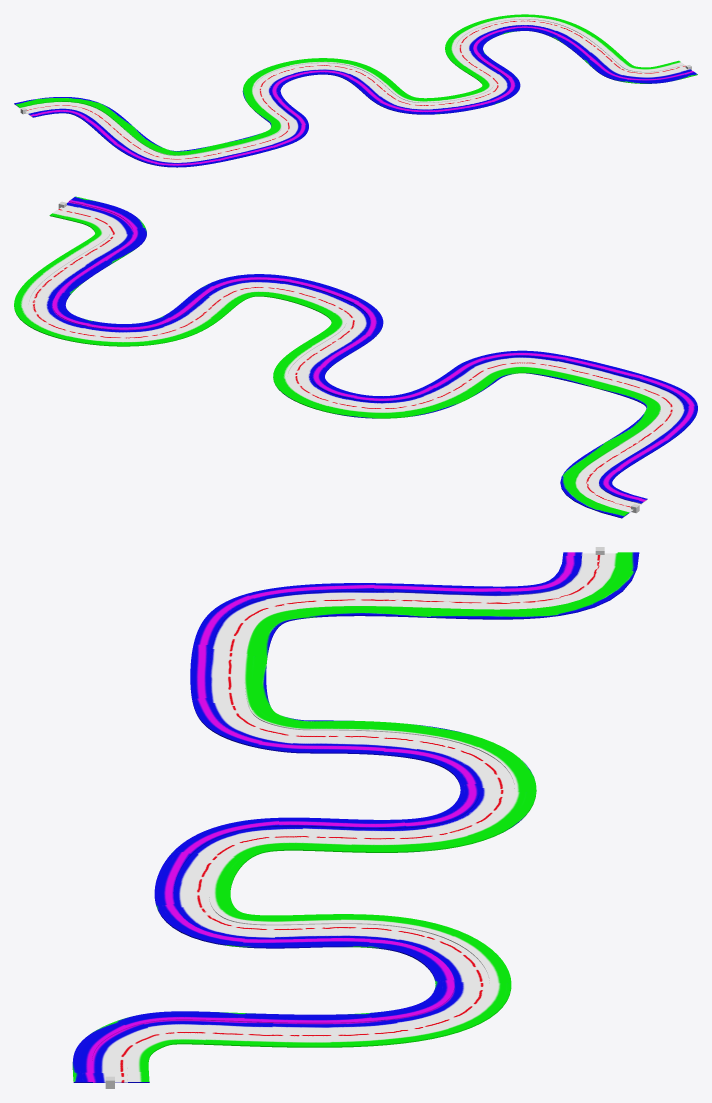
The model's file is BIGSquigglyRoad.dae.
3 views of the same model, one above another, from view 1: azimuth 30°, elevation 25°; view 2: azimuth 150°, elevation 25°; view 3: azimuth 270°, elevation 25° (orthographic). The views are drawn at different scales.
Visible parts, largest first — view 1: PathPath.002; view 2: PathPath.002; view 3: PathPath.002.
Part boxes in pixels (<box>): PathPath.002: <box>14,14,697,167</box>; PathPath.002: <box>14,196,697,518</box>; PathPath.002: <box>72,552,639,1082</box>.
Size of the model in its own units: 274 by 123 by 2.
